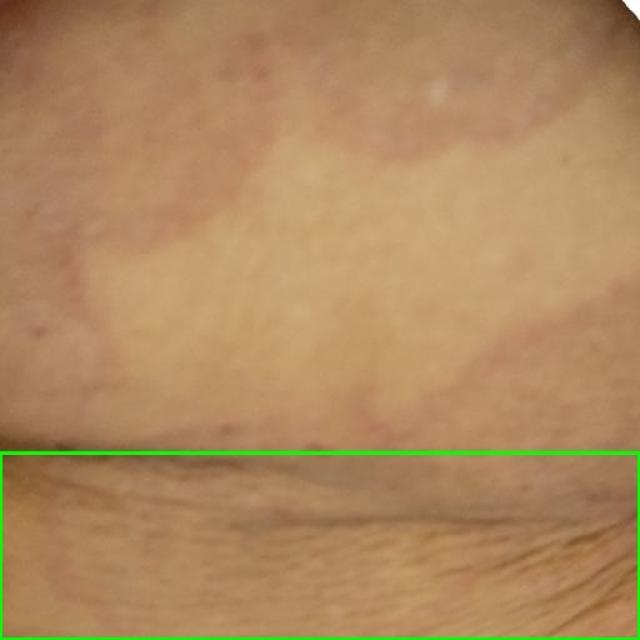Tinea Corporis: (0, 452, 639, 639)
